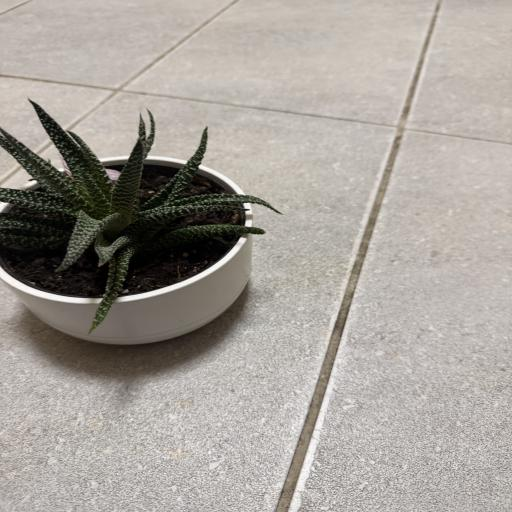Plant Pot: (1, 154, 254, 344)
